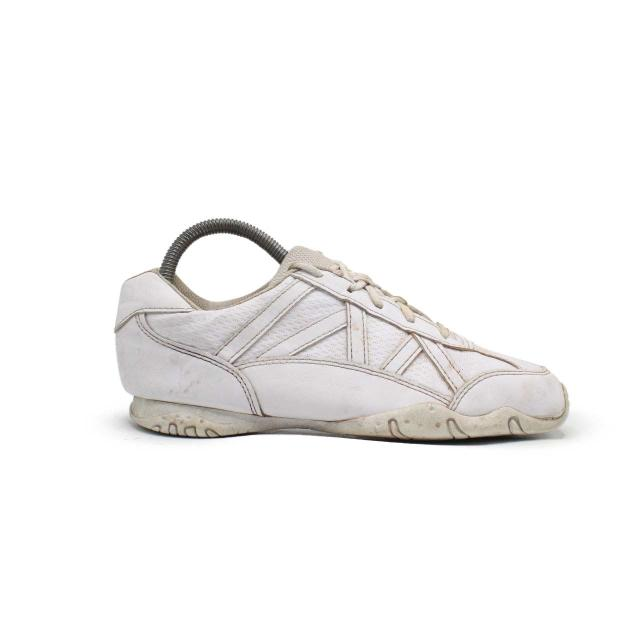heel: (119, 271, 205, 407)
midsole: (125, 387, 571, 442)
uppersole: (200, 248, 563, 419)
